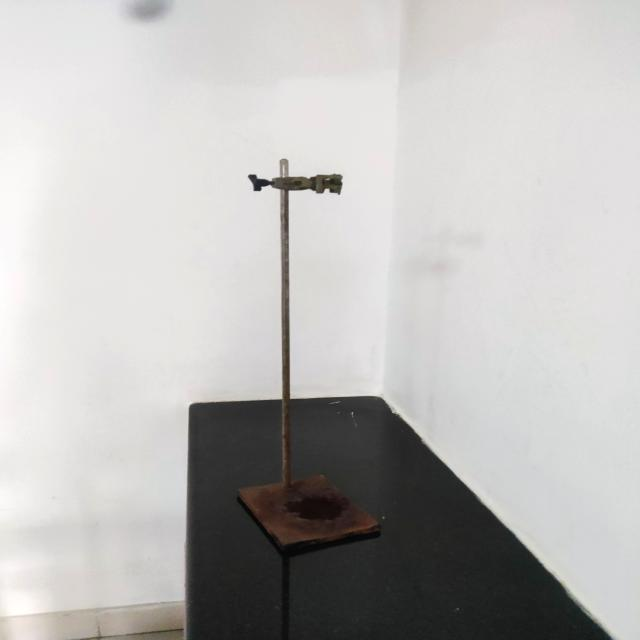Burette_Stands: (197, 152, 391, 561)
